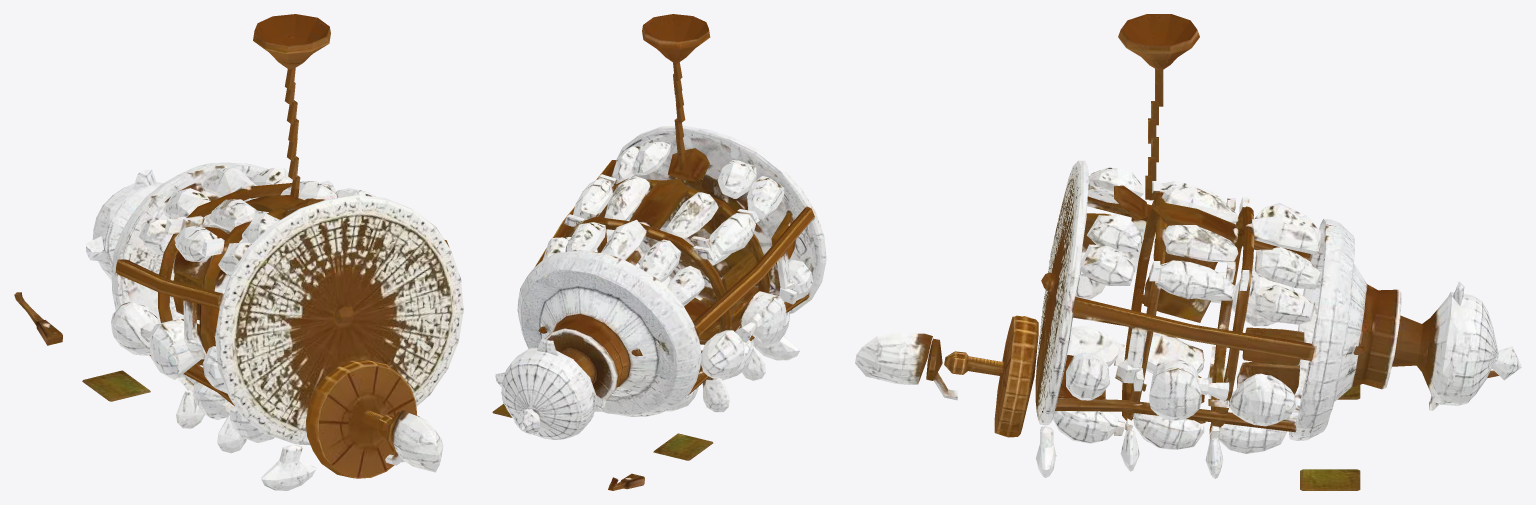
Rendered from ship_chandelier_sunk.glb.
3 renders of one model, left to right at view 1: azimuth 30°, elevation 25°; view 2: azimuth 150°, elevation 25°; view 3: azimuth 270°, elevation 25°, orthographic. The views are drawn at different scales.
Visible parts, largest first — view 1: mesh_node; view 2: mesh_node; view 3: mesh_node.
Boxes of the visible parts, left/top/right/bottom form: mesh_node: left=14, top=14, right=463, bottom=490; mesh_node: left=492, top=14, right=826, bottom=490; mesh_node: left=855, top=14, right=1521, bottom=490.
Bounding box in the file's own units: 0.8884 × 1.31 × 1.91.
Materials: 1 (1 with a texture image).
